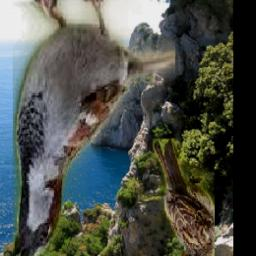Sparrow: (14, 0, 176, 256), (154, 139, 216, 256)
